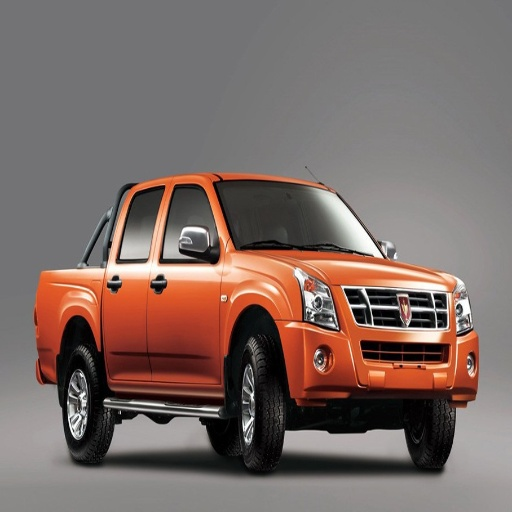front_bumper: (279, 285, 478, 403)
front_right_door: (147, 182, 222, 388)
front_right_light: (295, 269, 341, 331)
trunk: (40, 270, 97, 363)
